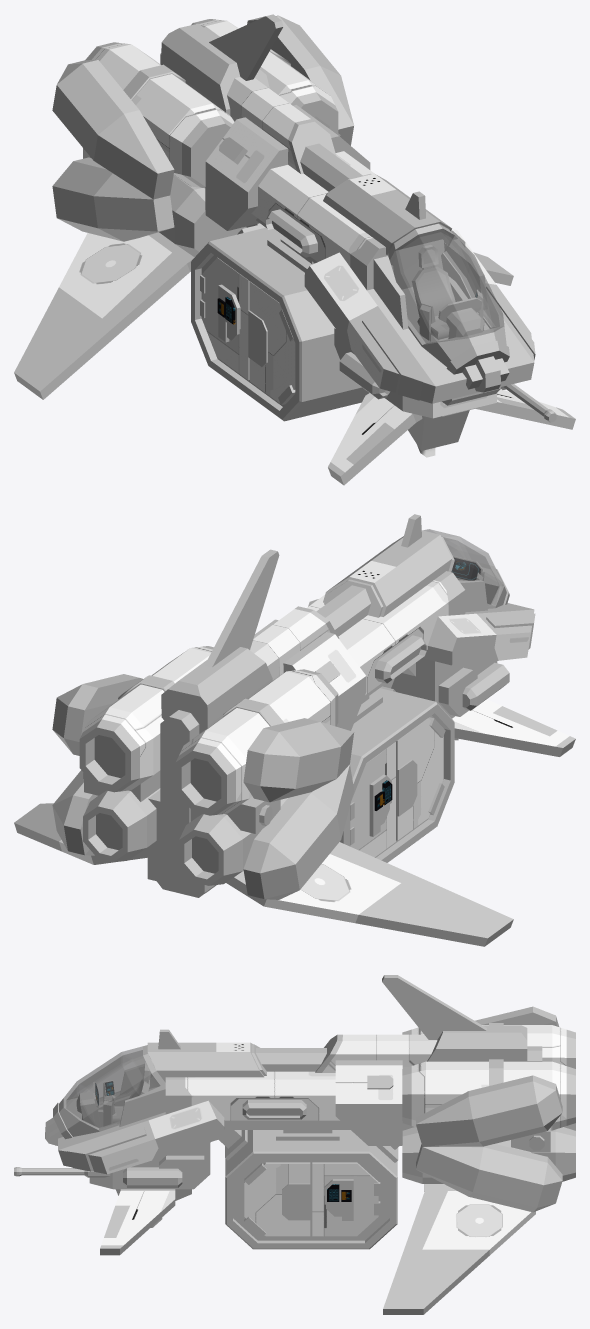
Rendered from SM_SpaceshipM_Cargo01.fbx.
3 views of the same model, one above another, from view 1: azimuth 30°, elevation 25°; view 2: azimuth 150°, elevation 25°; view 3: azimuth 270°, elevation 25° (orthographic). The views are drawn at different scales.
Parts seen in each view (by area): view 1: SM_SpaceshipM_Cargo01_Body, SM_SpaceshipM_Cargo01_Load, SM_SpaceshipM_Cargo01_Cockpit, SM_SpaceshipM_Cargo01_Glass; view 2: SM_SpaceshipM_Cargo01_Body, SM_SpaceshipM_Cargo01_Load, SM_SpaceshipM_Cargo01_Cockpit, SM_SpaceshipM_Cargo01_Glass; view 3: SM_SpaceshipM_Cargo01_Body, SM_SpaceshipM_Cargo01_Load, SM_SpaceshipM_Cargo01_Cockpit, SM_SpaceshipM_Cargo01_Glass.
Boxes of the visible parts, bbox=[...] form: SM_SpaceshipM_Cargo01_Body: bbox=[14, 14, 575, 485]; SM_SpaceshipM_Cargo01_Load: bbox=[191, 227, 368, 421]; SM_SpaceshipM_Cargo01_Cockpit: bbox=[373, 223, 509, 392]; SM_SpaceshipM_Cargo01_Glass: bbox=[390, 228, 504, 344]; SM_SpaceshipM_Cargo01_Body: bbox=[14, 514, 575, 946]; SM_SpaceshipM_Cargo01_Load: bbox=[340, 688, 454, 862]; SM_SpaceshipM_Cargo01_Cockpit: bbox=[441, 536, 509, 612]; SM_SpaceshipM_Cargo01_Glass: bbox=[423, 529, 504, 606]; SM_SpaceshipM_Cargo01_Body: bbox=[14, 975, 575, 1314]; SM_SpaceshipM_Cargo01_Load: bbox=[225, 1130, 397, 1249]; SM_SpaceshipM_Cargo01_Cockpit: bbox=[45, 1045, 165, 1145]; SM_SpaceshipM_Cargo01_Glass: bbox=[64, 1046, 160, 1129].
Bounding box in the file's own units: 746 × 483 × 982.
